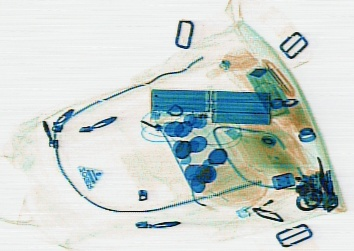lighter: (233, 186, 289, 218)
powerbank: (149, 87, 273, 126)
